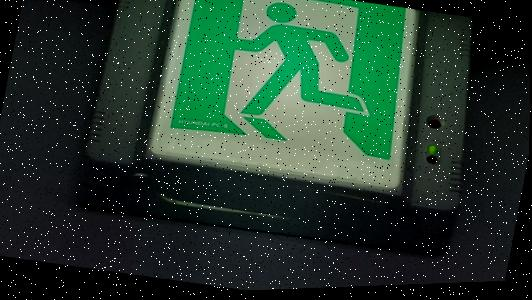emergency_exit: (82, 0, 473, 249), (146, 0, 417, 195)
